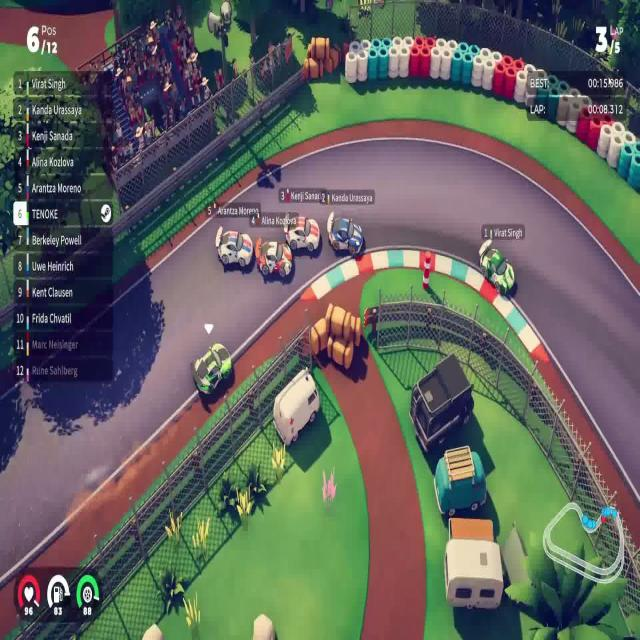car: (192, 341, 233, 398), (478, 237, 514, 296), (327, 211, 364, 257), (255, 236, 292, 279), (216, 228, 253, 270), (283, 214, 320, 253)
